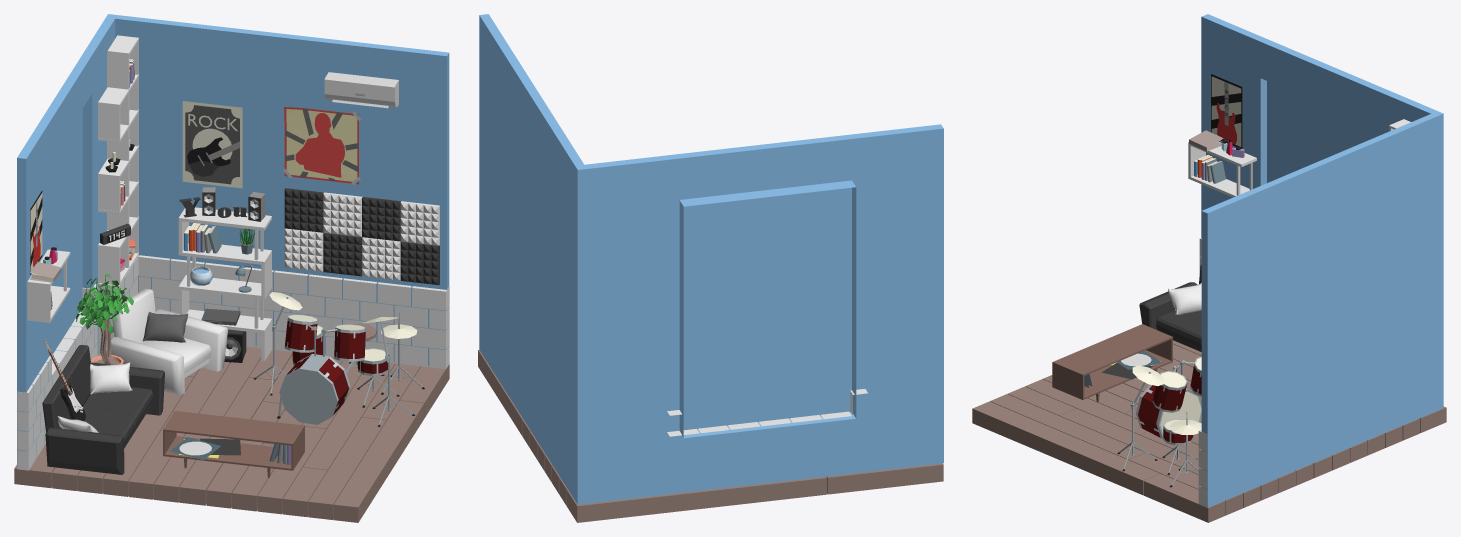
The model's file is room2.glb.
The picture shows the model from 3 angles, left to right: view 1: azimuth 30°, elevation 25°; view 2: azimuth 150°, elevation 25°; view 3: azimuth 270°, elevation 25°; orthographic projection. The views are drawn at different scales.
Parts seen in each view (by area): view 1: low_poly_interior.1285, low_poly_interior.1284, low_poly_interior.1288, low_poly_interior.1291, low_poly_interior.477, low_poly_interior.476, low_poly_interior.923, low_poly_interior.478, low_poly_interior.694, low_poly_interior.479, low_poly_interior.874, low_poly_interior.872 (+9 smaller); view 2: low_poly_interior.1285, low_poly_interior.1284, low_poly_interior.1288; view 3: low_poly_interior.1285, low_poly_interior.1284, low_poly_interior.694, low_poly_interior.476, low_poly_interior.477, low_poly_interior.873, low_poly_interior.485, low_poly_interior.1288, low_poly_interior.696.
Part boxes in pixels (x1,y1,x2,y2): low_poly_interior.1285: (17, 14, 449, 468); low_poly_interior.1284: (14, 343, 449, 522); low_poly_interior.1288: (17, 255, 449, 470); low_poly_interior.1291: (284, 188, 439, 284); low_poly_interior.477: (42, 345, 164, 474); low_poly_interior.476: (253, 292, 424, 427); low_poly_interior.923: (98, 35, 138, 285); low_poly_interior.478: (111, 288, 227, 395); low_poly_interior.694: (163, 411, 304, 477); low_poly_interior.479: (178, 207, 271, 361); low_poly_interior.874: (283, 107, 361, 185); low_poly_interior.872: (182, 101, 242, 188); low_poly_interior.1285: (479, 14, 943, 504); low_poly_interior.1284: (478, 350, 943, 522); low_poly_interior.1288: (667, 389, 867, 436); low_poly_interior.1285: (1201, 14, 1443, 507); low_poly_interior.1284: (972, 340, 1446, 522); low_poly_interior.694: (1052, 324, 1172, 402); low_poly_interior.476: (1117, 356, 1201, 487); low_poly_interior.477: (1139, 264, 1201, 351); low_poly_interior.873: (1211, 74, 1242, 148); low_poly_interior.485: (1188, 141, 1256, 197); low_poly_interior.1288: (1198, 238, 1207, 507); low_poly_interior.696: (1194, 155, 1225, 183).
Bounding box in the file's own units: 5.84 × 4.2 × 5.84.
Materials: 1 (1 with a texture image).
